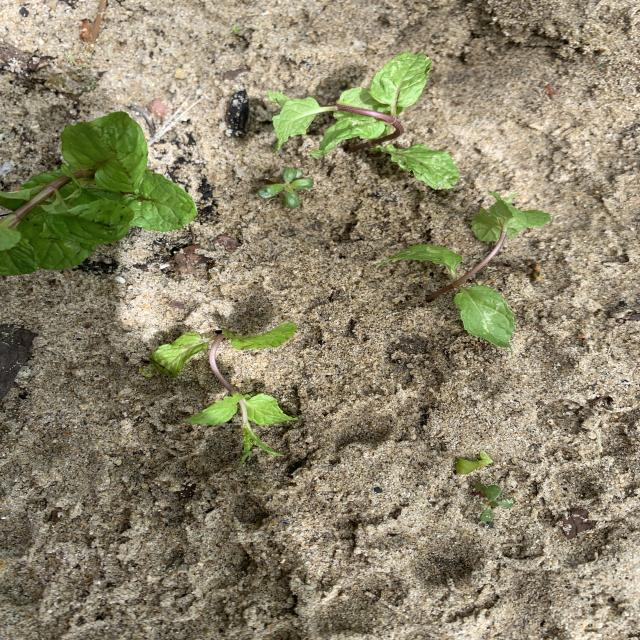crop: (0, 112, 197, 276), (268, 53, 459, 189), (150, 323, 297, 463), (389, 193, 550, 302), (454, 286, 514, 347)
weed: (257, 168, 314, 209), (473, 483, 514, 523)
